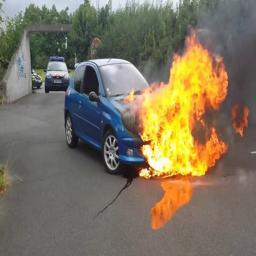fire: (128, 29, 230, 179)
